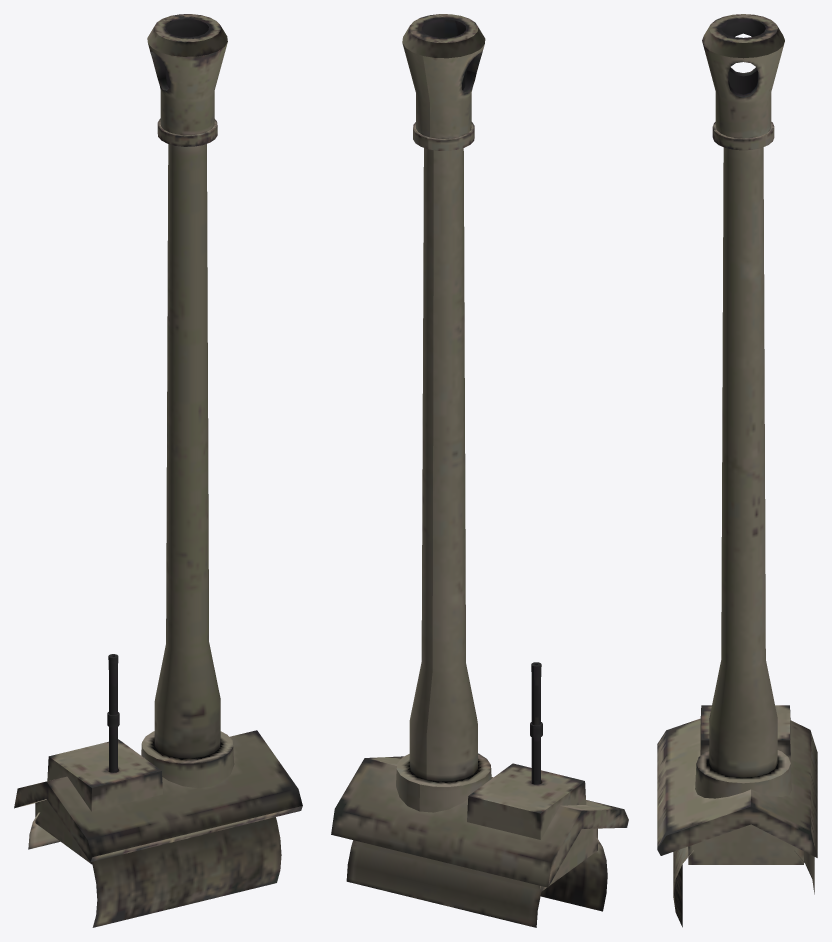
The model's file is Gun_02.glb.
The picture shows the model from 3 angles, left to right: view 1: azimuth 30°, elevation 25°; view 2: azimuth 150°, elevation 25°; view 3: azimuth 270°, elevation 25°; orthographic projection. The views are drawn at different scales.
Visible parts, largest first — view 1: set_0_group_0; view 2: set_0_group_0; view 3: set_0_group_0.
Part boxes in pixels (x1,y1,x2,y2): set_0_group_0: (14, 14, 302, 927); set_0_group_0: (331, 14, 628, 927); set_0_group_0: (657, 14, 817, 927).
Bounding box in the file's own units: 0.5817 × 2.24 × 0.3746.
1 material, 1 textured.
